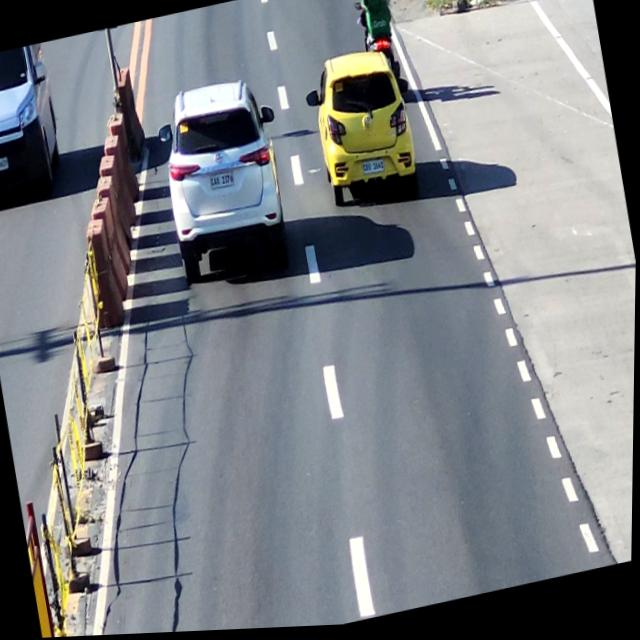Car: (150, 71, 302, 302), (302, 46, 425, 219), (0, 40, 71, 209)
License-Plate: (205, 169, 238, 196), (358, 155, 388, 181), (0, 149, 13, 177)
Motorcycle: (348, 0, 409, 104)
